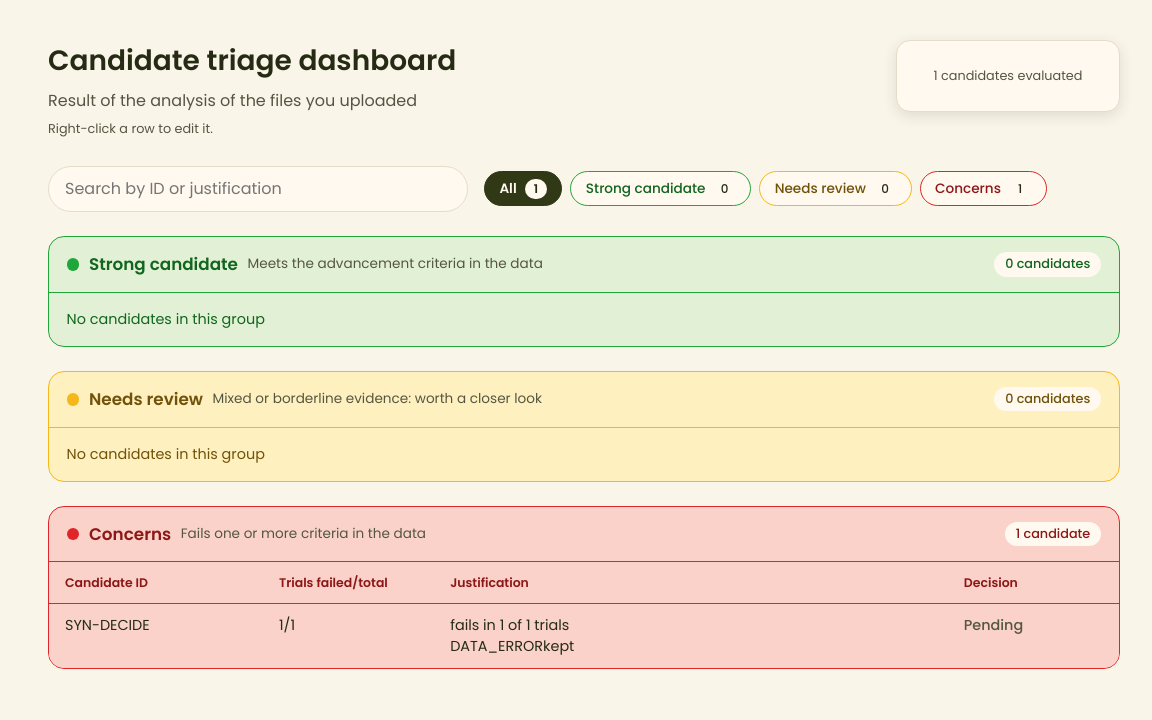
colour override and decision › records no pass without moving colour or engine colour
Check: the cell with test id "candidate-decision-SYN-DECIDE" reads "Pending", box [964,615,1023,635]
Right-click the row with test id "candidate-row-SYN-DECIDE": point(584, 636) [49,603,1119,668]
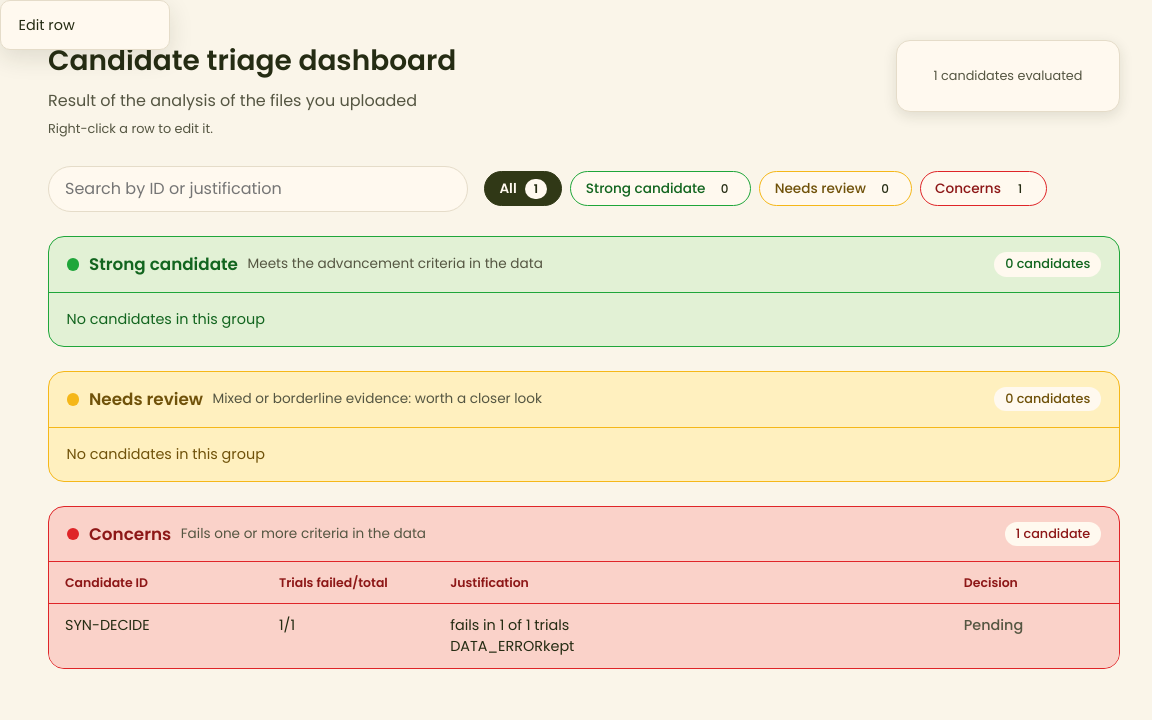
Click the menu item with test id "row-context-menu-edit": point(85, 25) [6,6,164,44]
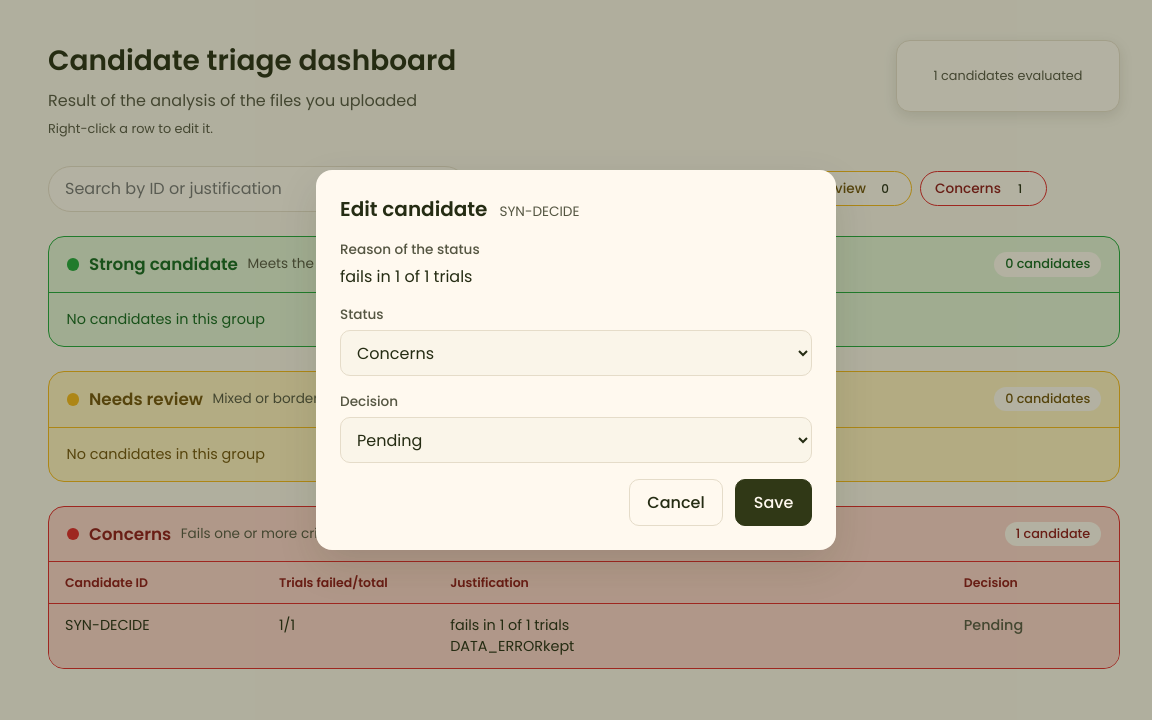
Select "No pass" in the dropdown with test id "edit-decision-select": point(576, 440) [340,417,812,463]
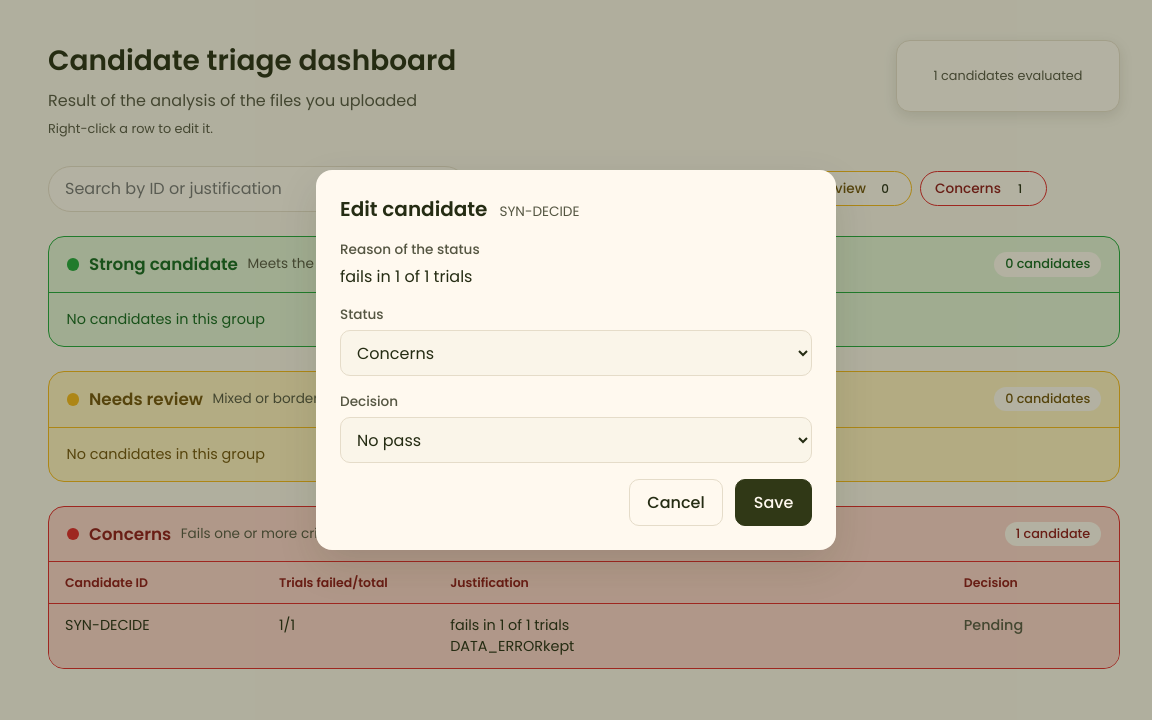
Click the button with test id "edit-save-button": point(774, 502) [735,479,812,526]
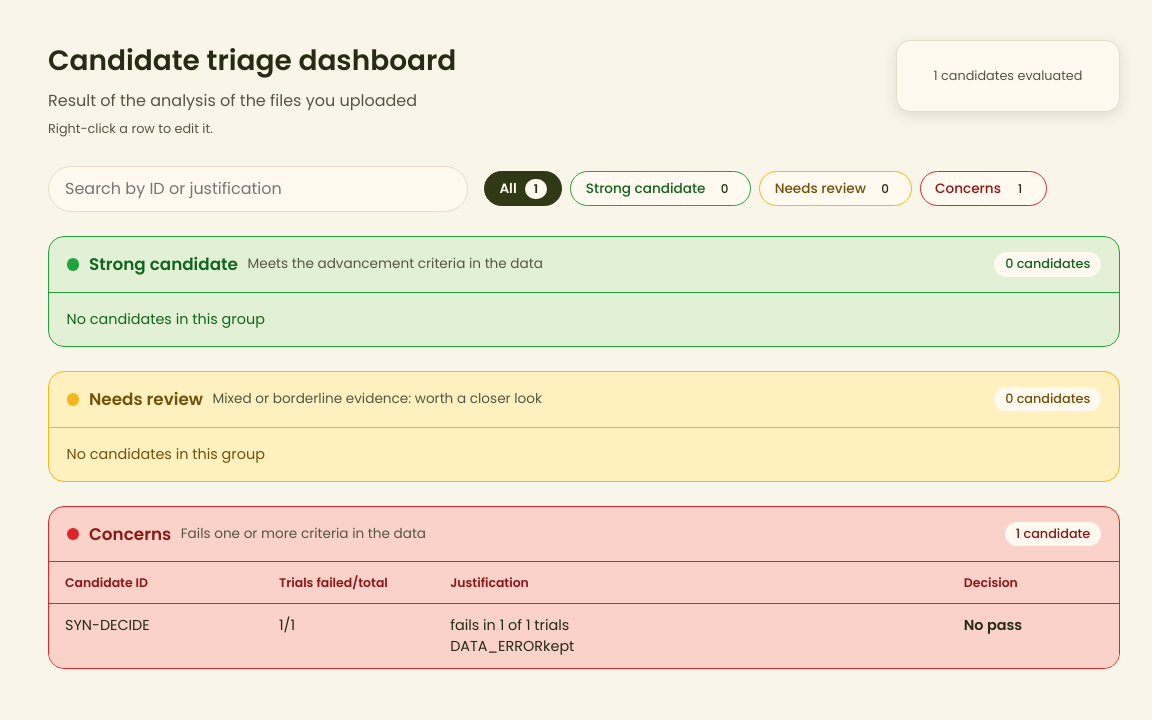
Check: the button with test id "filter-status-red" shows "1", box [920,172,1047,206]
Check: the cell with test id "candidate-decision-SYN-DECIDE" reads "No pass", box [964,615,1022,635]
